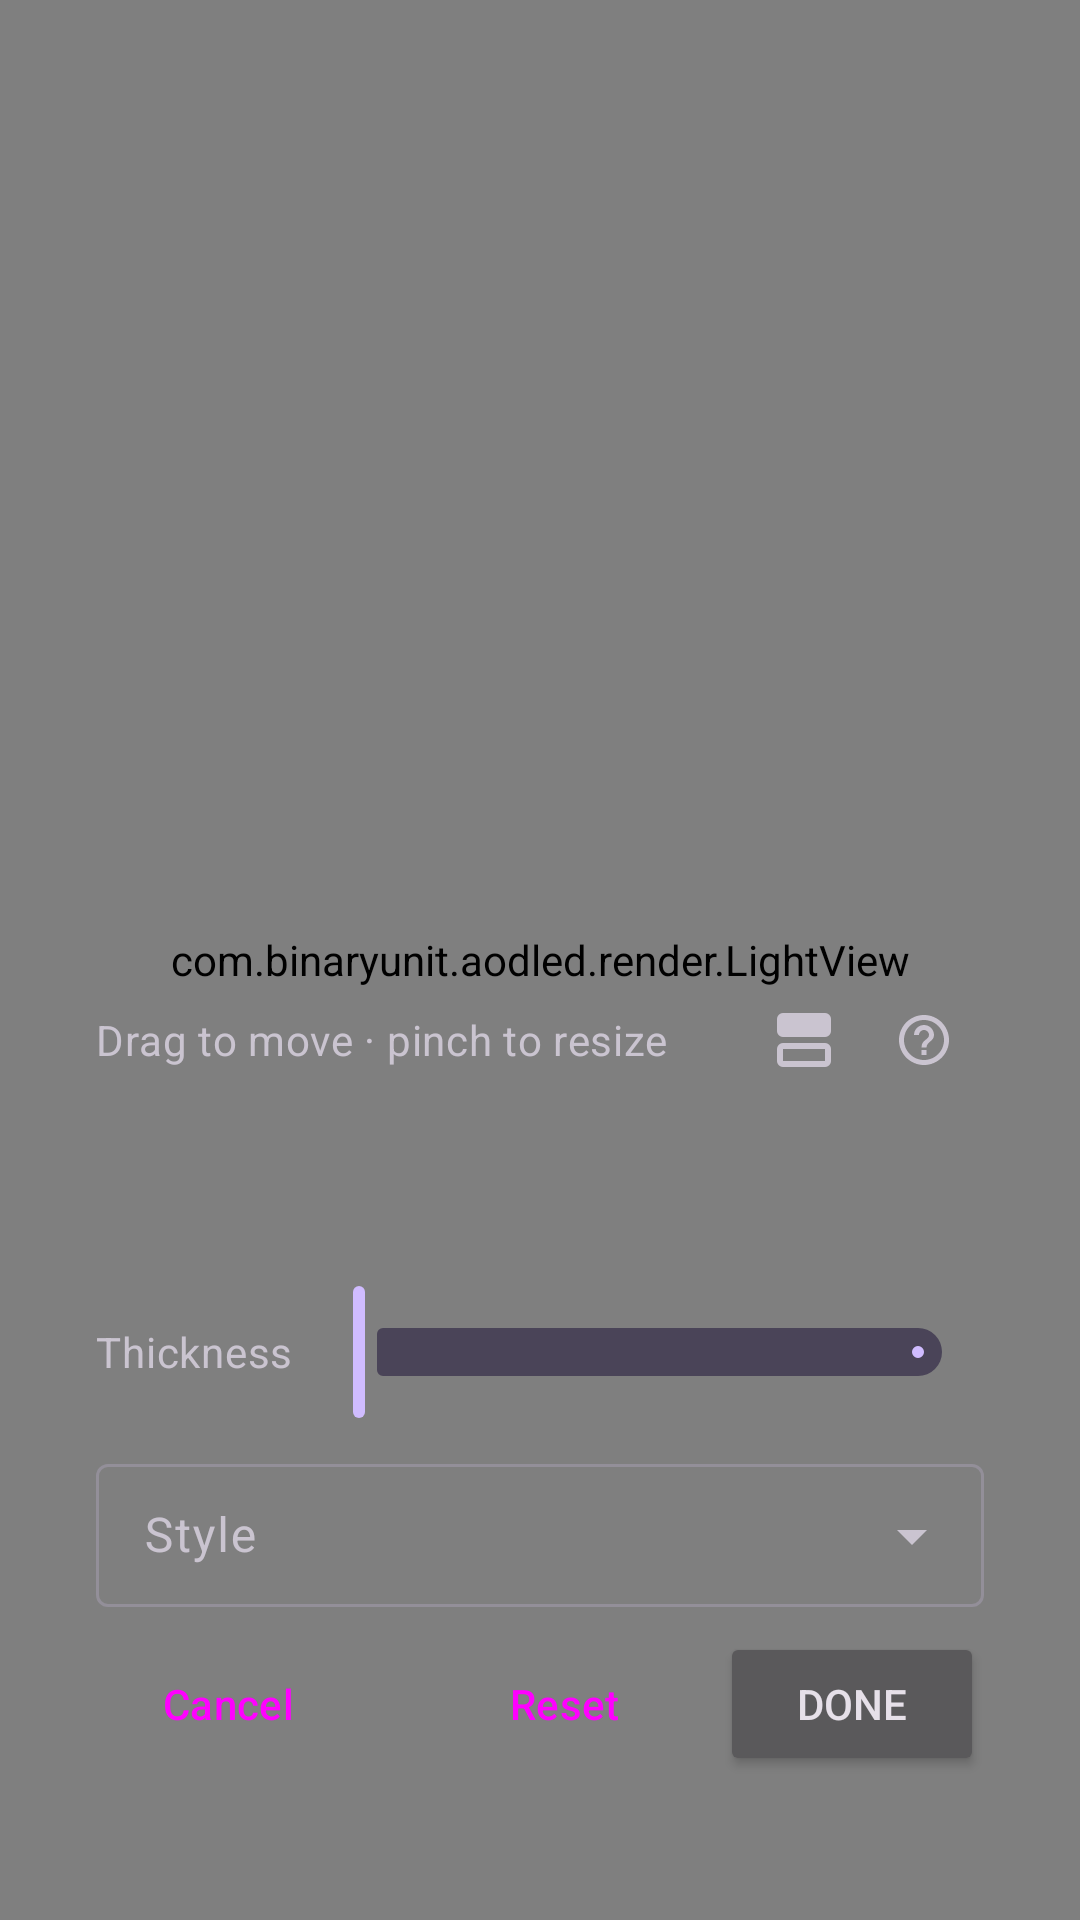

Icon click points for this 1080 × 1920 phone screenshot, format point (x, y):
Help: point (924, 1040)
panel top: point (804, 1040)
